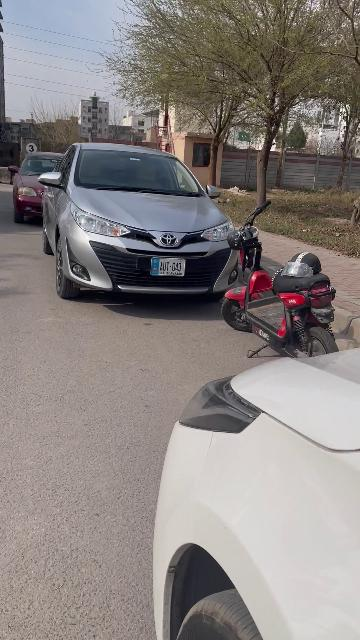plate: (151, 258, 186, 276)
